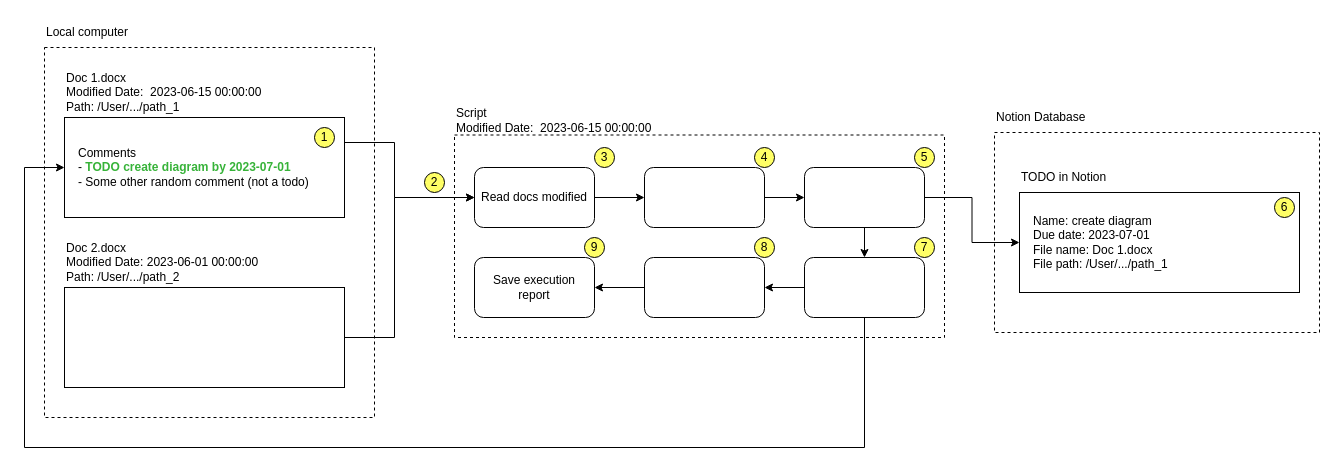
The diagram is 1337 pixels wide and 473 high, and some of its shapes have lost their labels. Here are the shapes that lost their labels. From the top down, the centre of each, then its label:
(704,197): Extract TODO comments
(864,197): Send TODOs to Notion
(704,287): Saves timestamp of this run
(864,287): Update comment with "(tracked)"
(204,337): - TODO write docs by 2023-07-01
